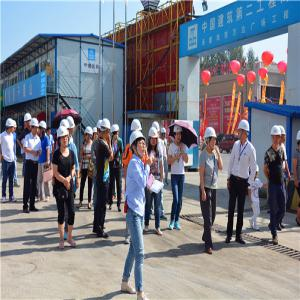none: (47, 127, 52, 138)
white: (131, 131, 147, 159), (205, 126, 218, 150), (238, 118, 251, 142), (101, 119, 112, 141), (270, 126, 282, 146), (149, 127, 159, 147), (59, 128, 69, 147), (84, 126, 94, 143), (174, 126, 183, 143), (6, 119, 15, 135), (68, 117, 76, 135), (112, 123, 120, 140), (31, 119, 39, 135), (39, 121, 47, 137), (25, 114, 33, 129), (281, 126, 287, 145), (97, 120, 103, 138), (296, 129, 300, 151), (93, 127, 99, 141), (161, 127, 167, 138)
